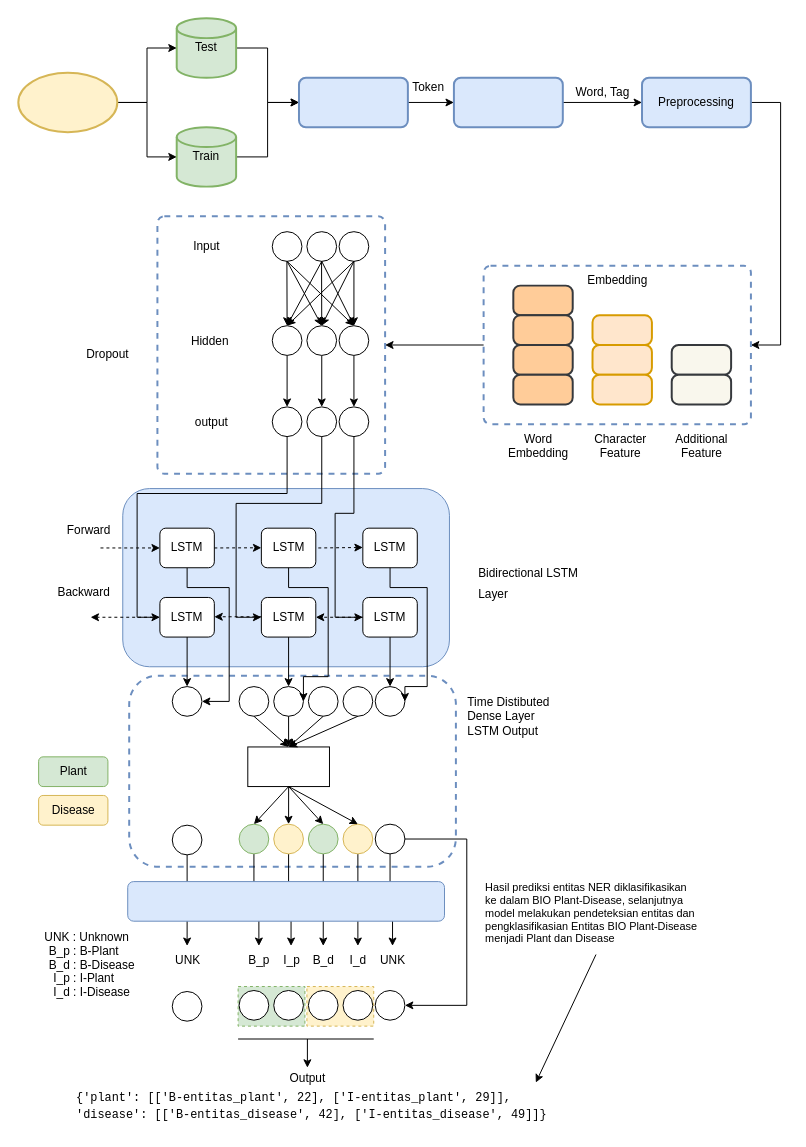
The diagram is 806 pixels wide and 1147 high, and some of its shapes have lost their labels. Each missing label, with the centre of its shape:
"Attention Vector Model" belongs at pixel 288 766.
"CRF" belongs at pixel 286 901.
"Manual Tagging" belongs at pixel 507 102.
"Mulai" belongs at pixel 67 102.
"Tokenization" belongs at pixel 352 102.
